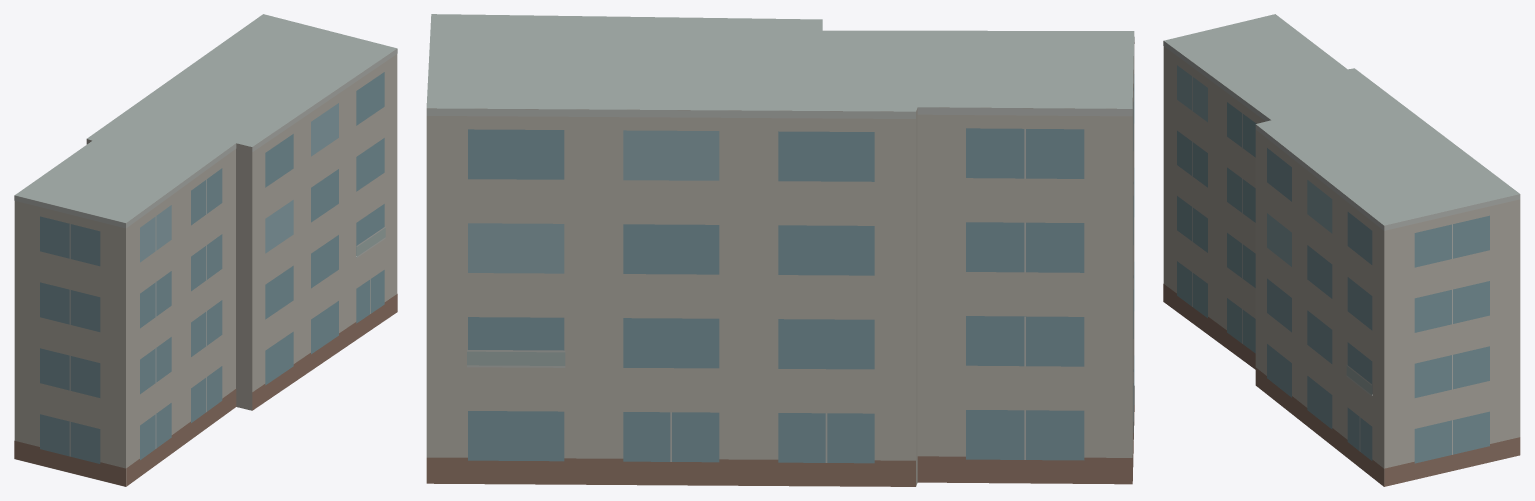
The model's file is survey-upis-32503279.glb.
The picture shows the model from 3 angles, left to right: view 1: azimuth 30°, elevation 25°; view 2: azimuth 150°, elevation 25°; view 3: azimuth 270°, elevation 25°; orthographic projection. The views are drawn at different scales.
Visible parts, largest first — view 1: survey-upis-32503279.tmp; view 2: survey-upis-32503279.tmp; view 3: survey-upis-32503279.tmp.
Boxes of the visible parts, left/top/right/bottom form: survey-upis-32503279.tmp: left=14, top=14, right=397, bottom=486; survey-upis-32503279.tmp: left=426, top=14, right=1134, bottom=486; survey-upis-32503279.tmp: left=1163, top=14, right=1520, bottom=486.
Size of the model in its own units: 21.21 by 12.2 by 15.11.
